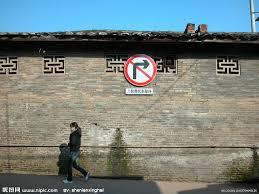no_right_turn: (123, 52, 156, 86)
